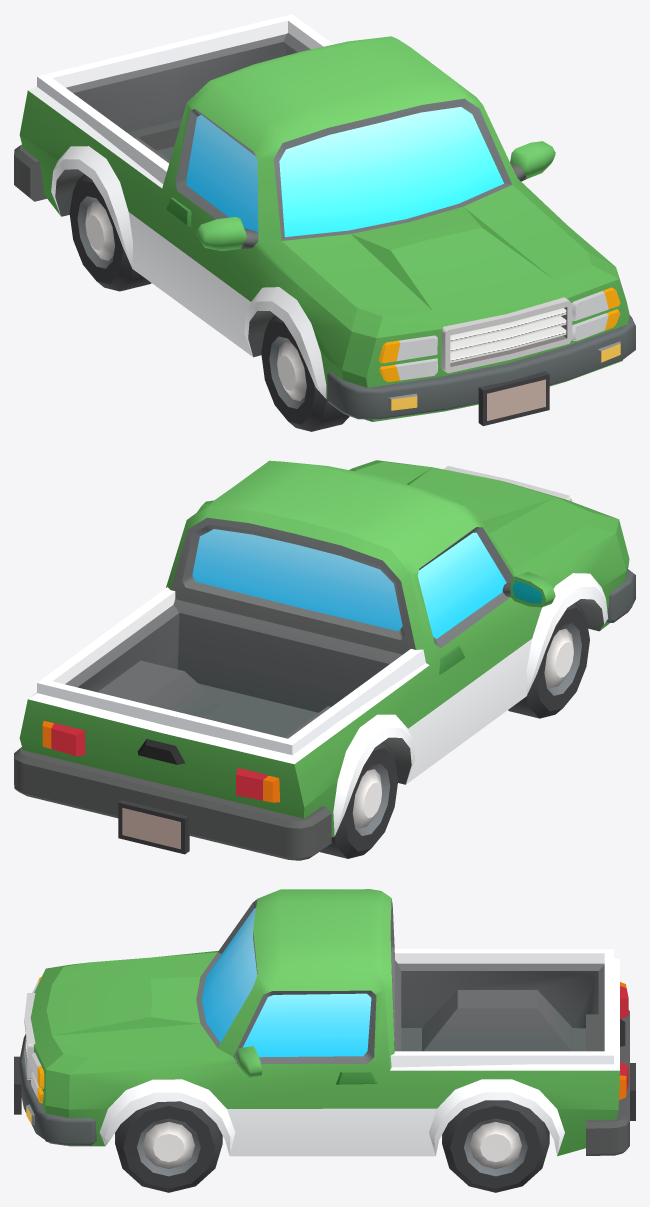
Rendered from city2-car-09.glb.
3 renders of one model, top to bottom at view 1: azimuth 30°, elevation 25°; view 2: azimuth 150°, elevation 25°; view 3: azimuth 270°, elevation 25°, orthographic. The views are drawn at different scales.
Visible parts, largest first — view 1: Cylinder.016, Wheel_033, Wheel_034; view 2: Cylinder.016, Wheel_034, Wheel_033; view 3: Cylinder.016, Wheel_036, Wheel_035.
Boxes of the visible parts, x1,y1,x2,y2 form: Cylinder.016: [14, 14, 635, 426]; Wheel_033: [261, 315, 349, 431]; Wheel_034: [69, 174, 151, 291]; Cylinder.016: [14, 460, 635, 860]; Wheel_034: [320, 741, 398, 858]; Wheel_033: [508, 602, 589, 718]; Cylinder.016: [14, 889, 635, 1156]; Wheel_036: [442, 1100, 549, 1192]; Wheel_035: [115, 1101, 222, 1192].
Size of the model in its own units: 2.62 by 1.81 by 4.66.
2 materials, 2 textured.
